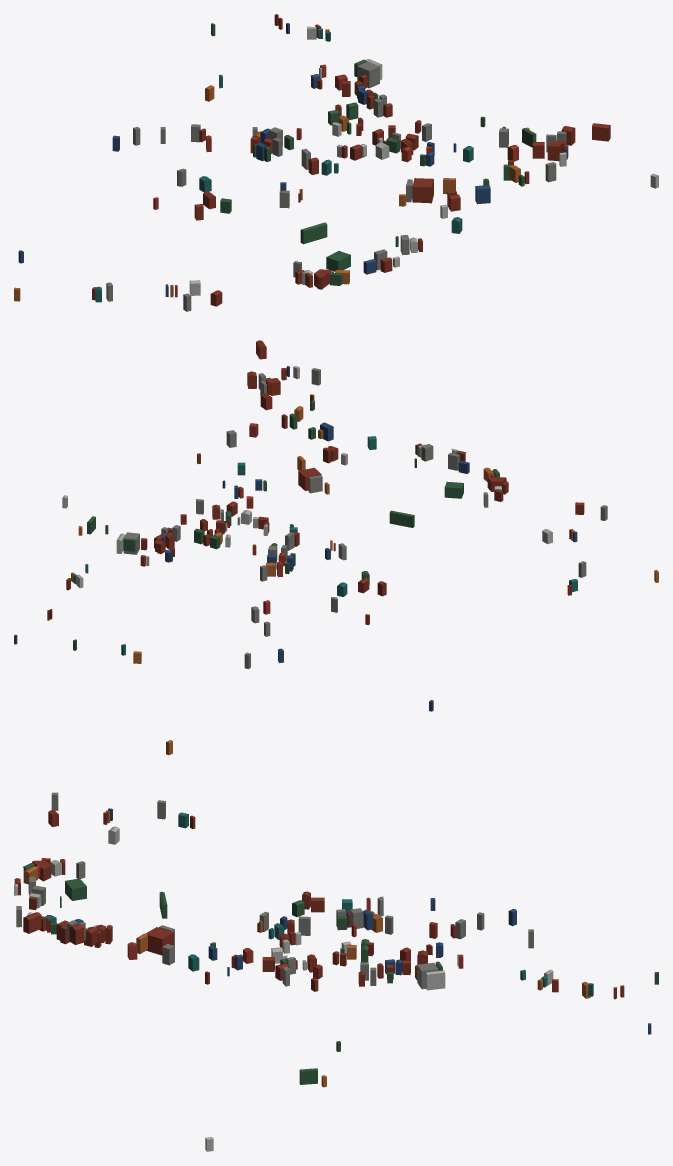
Rendered from near-15-27353-14870.86558121.glb.
The picture shows the model from 3 angles, top to bottom: view 1: azimuth 30°, elevation 25°; view 2: azimuth 150°, elevation 25°; view 3: azimuth 270°, elevation 25°; orthographic projection. The views are drawn at different scales.
Size of the model in its own units: 1066 by 283 by 864.
